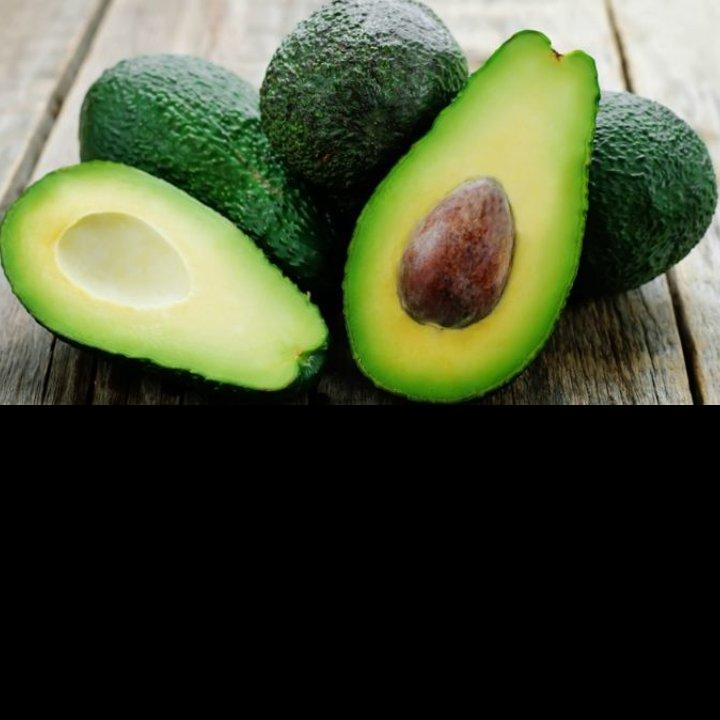unripe: (78, 53, 329, 279), (261, 1, 469, 200), (569, 88, 719, 302)
